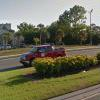Car: (14, 36, 73, 70)
